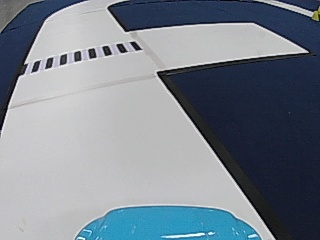CrossWalk: (23, 41, 143, 71)
